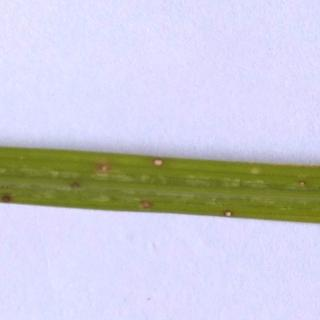Blast: (63, 154, 129, 188), (204, 192, 253, 227), (0, 176, 36, 212), (126, 188, 171, 212), (142, 148, 176, 176)
